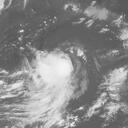cyclone: (35, 50, 73, 87)
